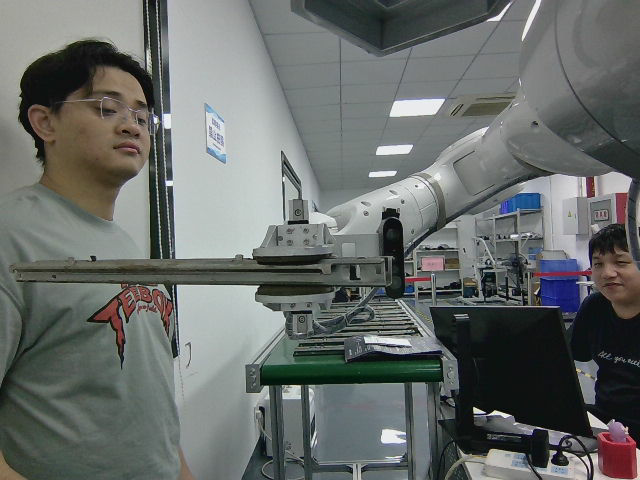up: (8, 256, 393, 286)
